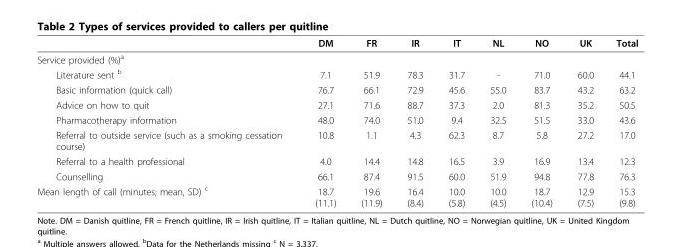table: (36, 36, 637, 208)
table column: (36, 36, 297, 208), (297, 36, 347, 208), (347, 36, 393, 208), (518, 36, 564, 208), (393, 36, 435, 208), (476, 36, 518, 208), (435, 36, 476, 208), (564, 36, 604, 208), (604, 36, 637, 208)
table column header: (36, 36, 637, 50)
table projected row header: (36, 50, 637, 66)
table row: (36, 127, 637, 153), (36, 182, 637, 208), (36, 50, 637, 66), (36, 81, 637, 97), (36, 66, 637, 81), (36, 97, 637, 112), (36, 112, 637, 127), (36, 153, 637, 168), (36, 36, 637, 50), (36, 168, 637, 182)
